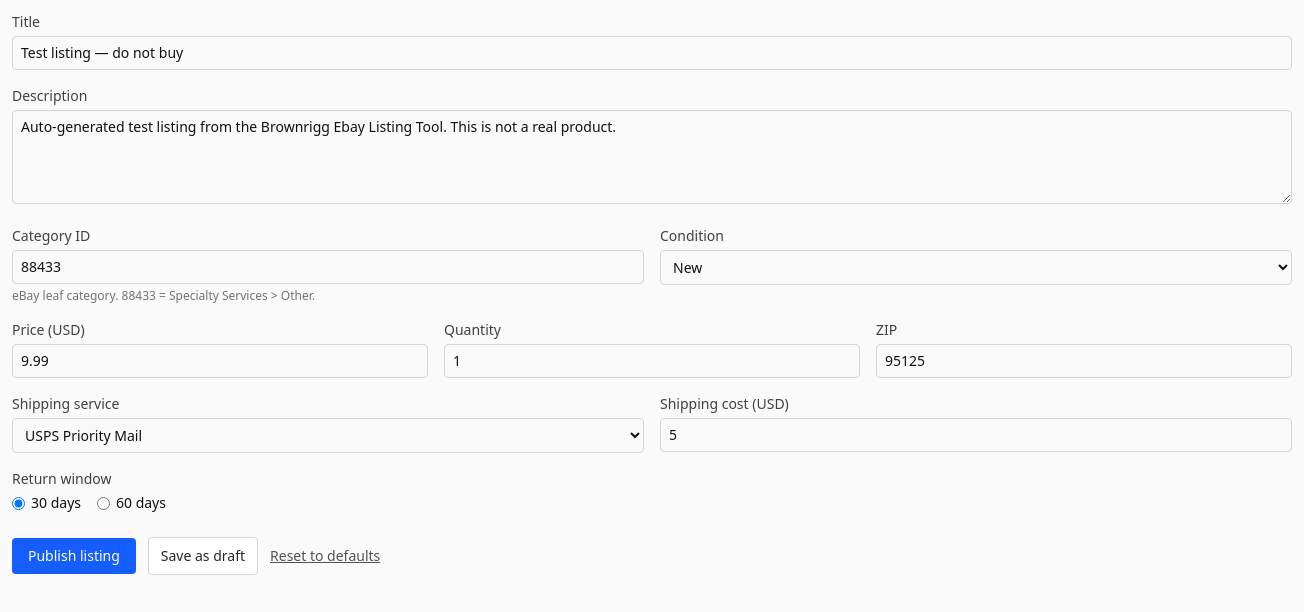
Test case: ListingForm › shows a field error when title is cleared and submit is attempted
This screenshot has width=1304, height=612.
Clear the field labelled "Title" at x=652, y=53, box [12,36,1292,70]
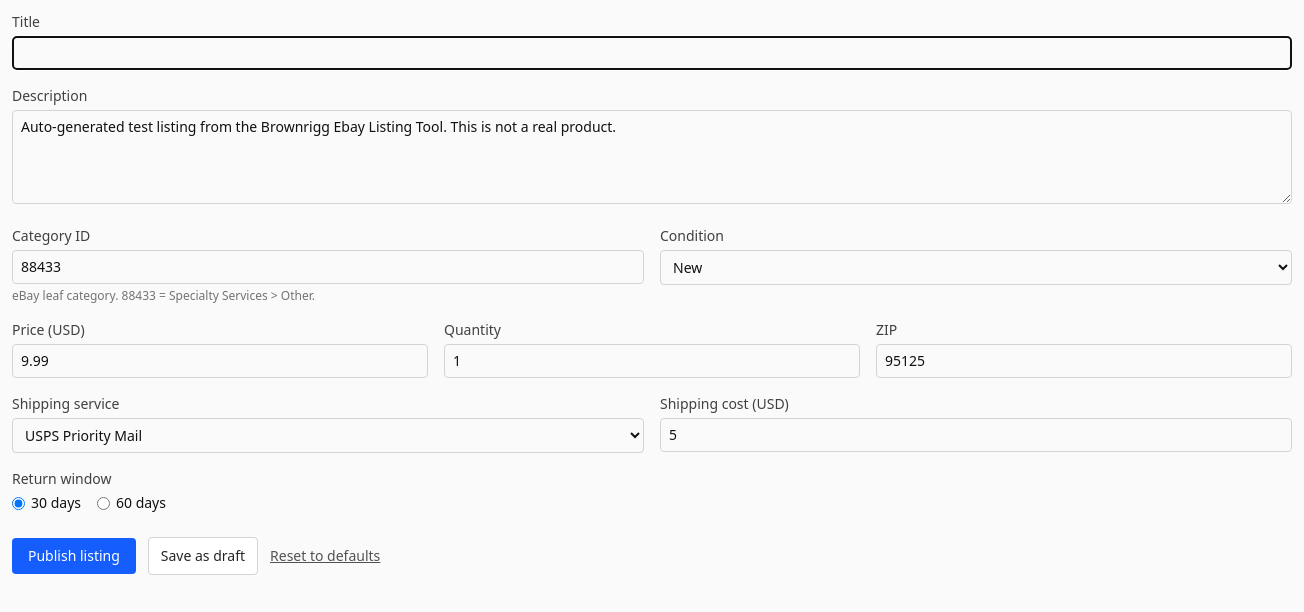
Click the button with test id "publish-button" at x=74, y=556, box [12,538,136,574]
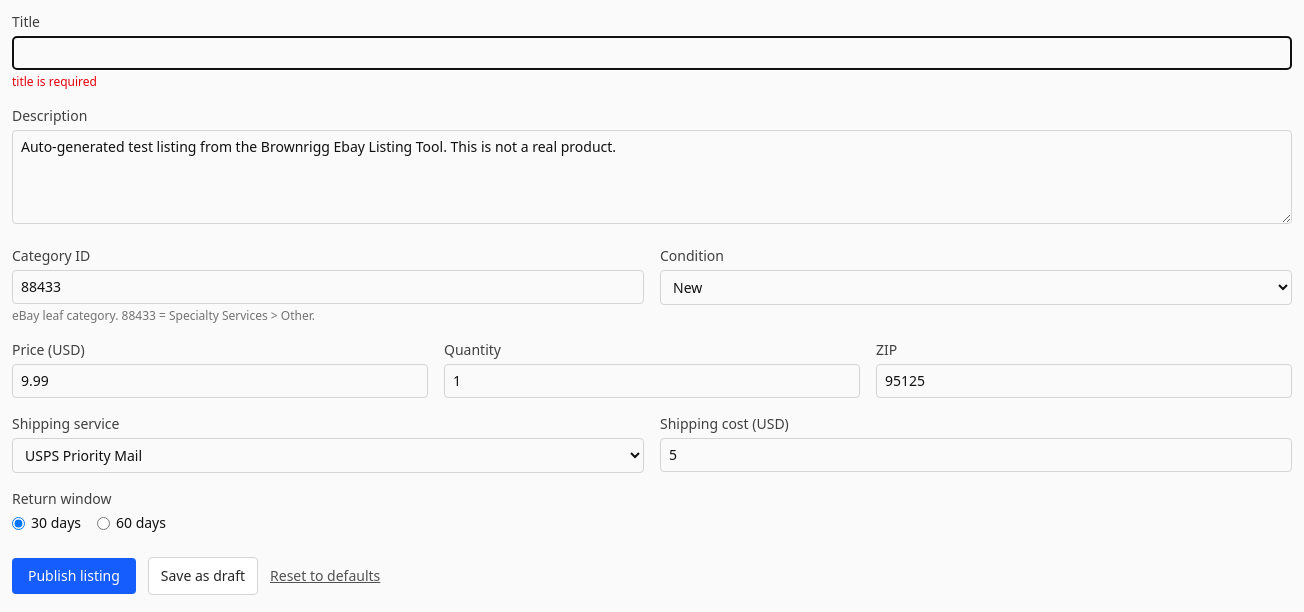
Expected: the text "title is required" is shown, [12,73,97,90]
